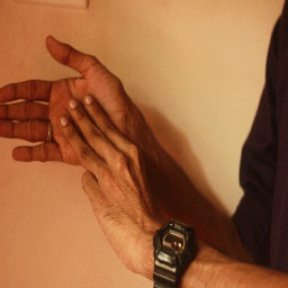M: (4, 32, 143, 193)
